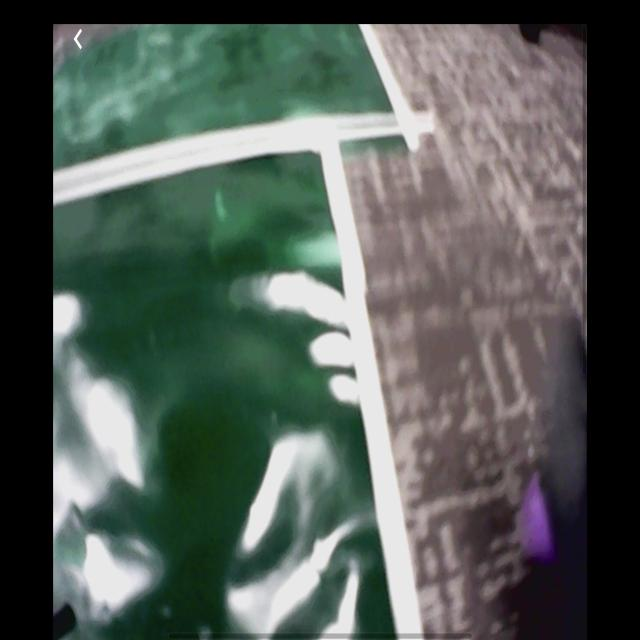ball: (515, 471, 557, 564)
